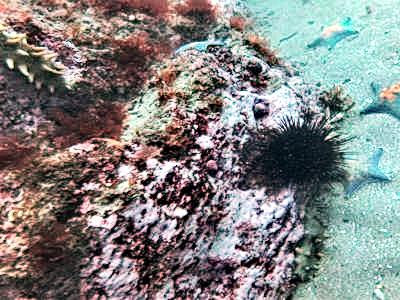urchin: (244, 110, 347, 192)
